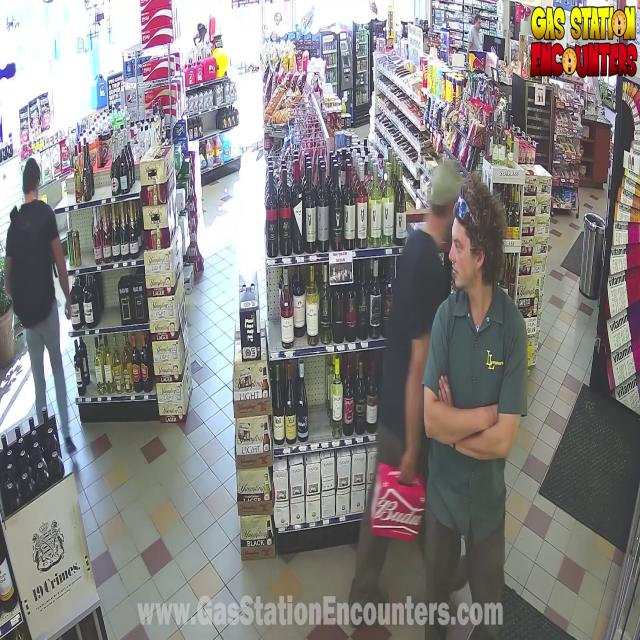Product: (372, 466, 427, 540)
normal: (402, 178, 548, 640), (4, 112, 112, 500)
shoplifting: (326, 148, 462, 618)
